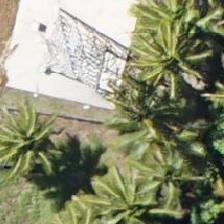coconut_tree: (0, 98, 78, 188), (86, 168, 176, 223)
